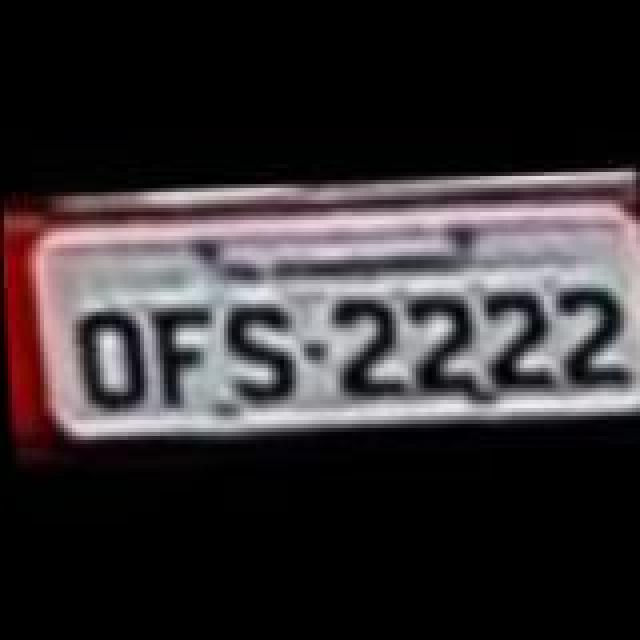2: (394, 286, 478, 406), (474, 282, 558, 398), (556, 282, 636, 394), (324, 294, 404, 402)
F: (146, 300, 218, 412)
O: (68, 304, 152, 416)
S: (220, 302, 304, 410)
